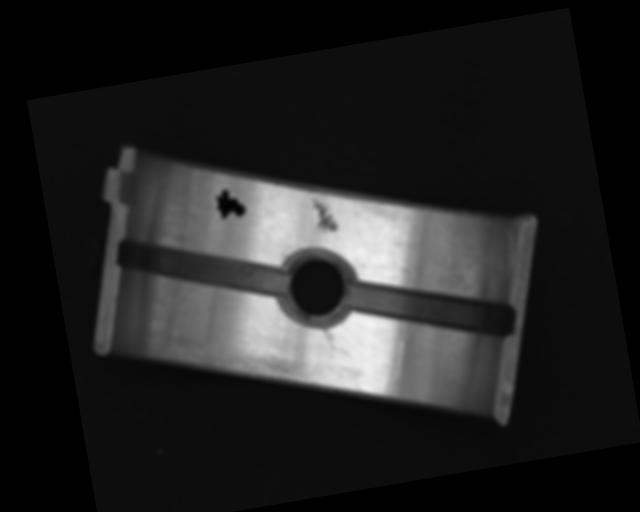blot: (213, 186, 247, 221)
bruise: (310, 195, 338, 235)
gap: (115, 215, 288, 321), (347, 261, 514, 358)
hole: (275, 245, 358, 331)
nick: (375, 340, 413, 398), (321, 325, 336, 352)
scratch: (160, 327, 309, 405)
